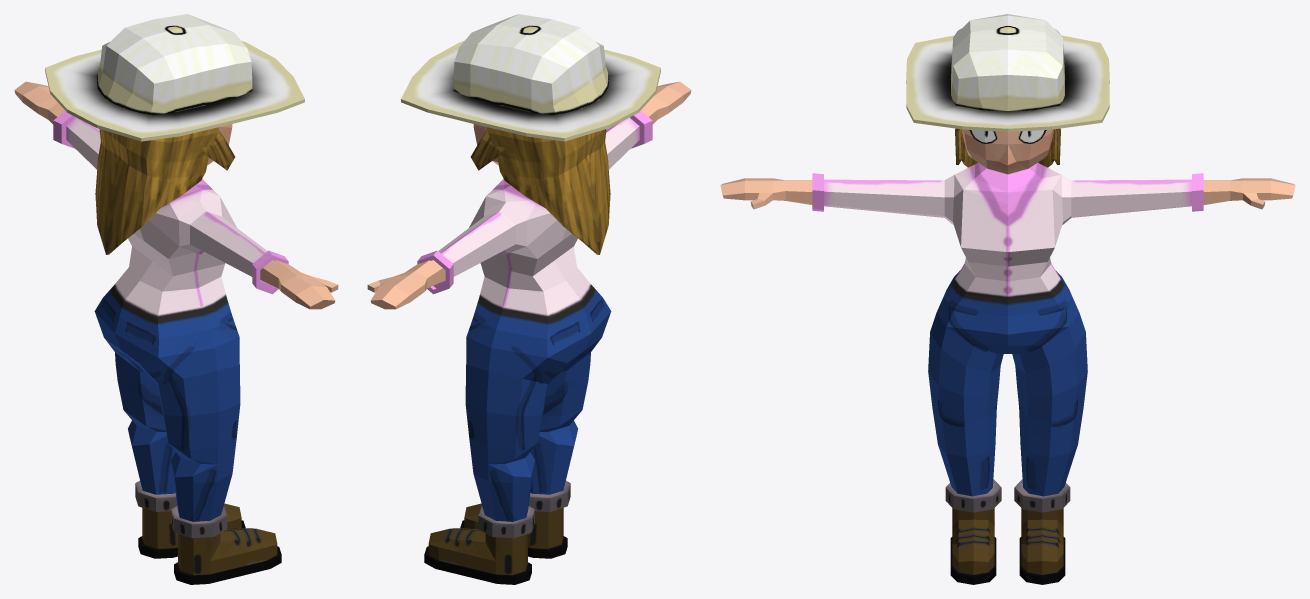
The model's file is Vaquera 1.fbx.
3 renders of one model, left to right at view 1: azimuth 30°, elevation 25°; view 2: azimuth 150°, elevation 25°; view 3: azimuth 270°, elevation 25°, orthographic. The views are drawn at different scales.
Parts seen in each view (by area): view 1: Cylinder; view 2: Cylinder; view 3: Cylinder.
Boxes of the visible parts, x1,y1,x2,y2 form: Cylinder: (14,14,338,584); Cylinder: (367,14,691,584); Cylinder: (720,14,1295,584).
Size of the model in its own units: 1.16 by 2.85 by 2.89.
Materials: 1 (1 with a texture image).
